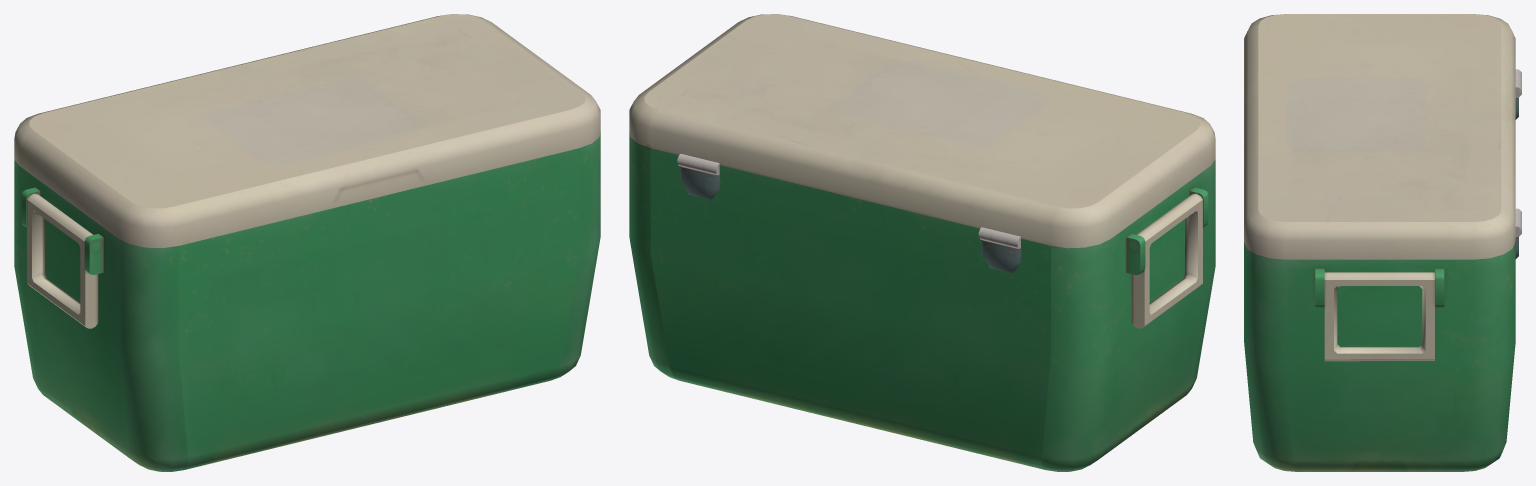
File: Ht_wenxiang_02.FBX
3 views of the same model, side by side, from view 1: azimuth 30°, elevation 25°; view 2: azimuth 150°, elevation 25°; view 3: azimuth 270°, elevation 25° (orthographic). The views are drawn at different scales.
Visible parts, largest first — view 1: Ht_wenxiang_02; view 2: Ht_wenxiang_02; view 3: Ht_wenxiang_02.
Part boxes in pixels (box(x1,y1,x2,y2)): Ht_wenxiang_02: box(14, 14, 600, 471); Ht_wenxiang_02: box(629, 14, 1215, 471); Ht_wenxiang_02: box(1244, 14, 1521, 471).
Bounding box in the file's own units: 78.24 × 39.42 × 40.51.
